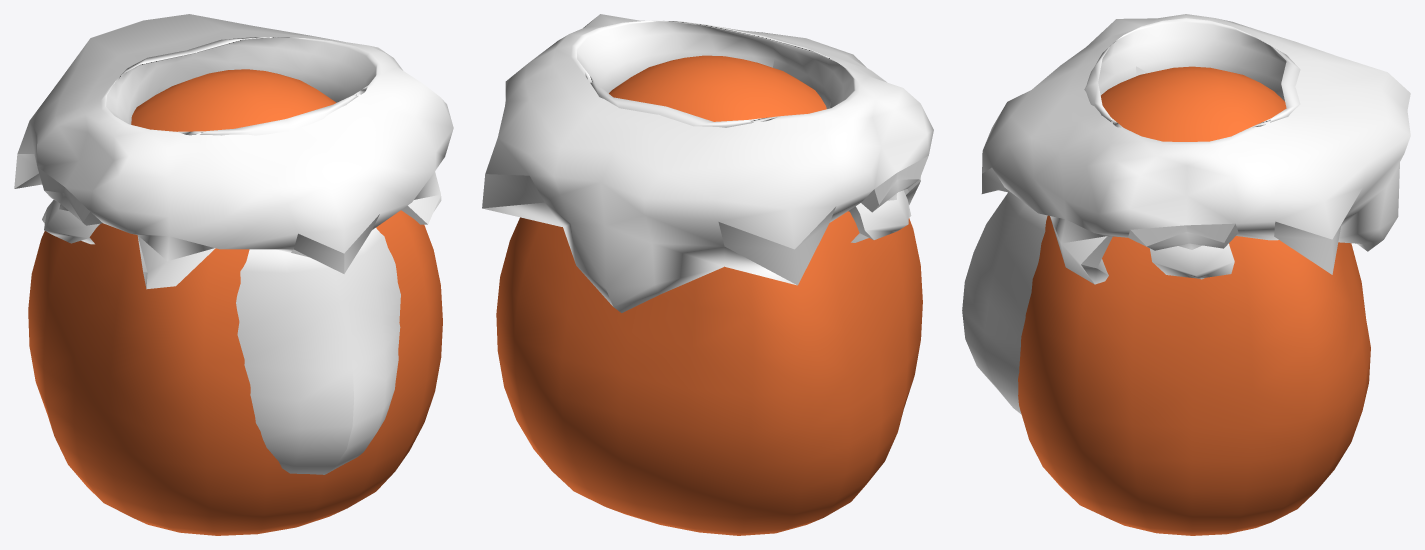
The model's file is cha_fox_body.obj.
3 views of the same model, side by side, from view 1: azimuth 30°, elevation 25°; view 2: azimuth 150°, elevation 25°; view 3: azimuth 270°, elevation 25° (orthographic). The views are drawn at different scales.
Parts seen in each view (by area): view 1: body pSphere5, cha_bird_body1:bodypTorus1 body, body cha_bird_body:pSphere6body; view 2: body pSphere5, cha_bird_body1:bodypTorus1 body; view 3: body pSphere5, cha_bird_body1:bodypTorus1 body, body cha_bird_body:pSphere6body.
Boxes of the visible parts, x1,y1,x2,y2 form: body pSphere5: [28, 69, 442, 535]; cha_bird_body1:bodypTorus1 body: [14, 14, 453, 289]; body cha_bird_body:pSphere6body: [236, 228, 400, 474]; body pSphere5: [496, 55, 922, 535]; cha_bird_body1:bodypTorus1 body: [482, 14, 933, 312]; body pSphere5: [1018, 66, 1370, 535]; cha_bird_body1:bodypTorus1 body: [981, 14, 1410, 284]; body cha_bird_body:pSphere6body: [962, 192, 1047, 414].
Size of the model in its own units: 0.9627 by 0.9883 by 0.977.
